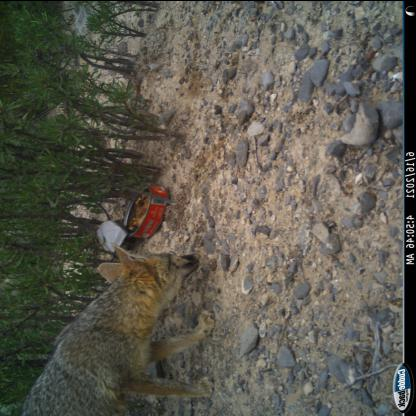zorro: (15, 248, 230, 415)
